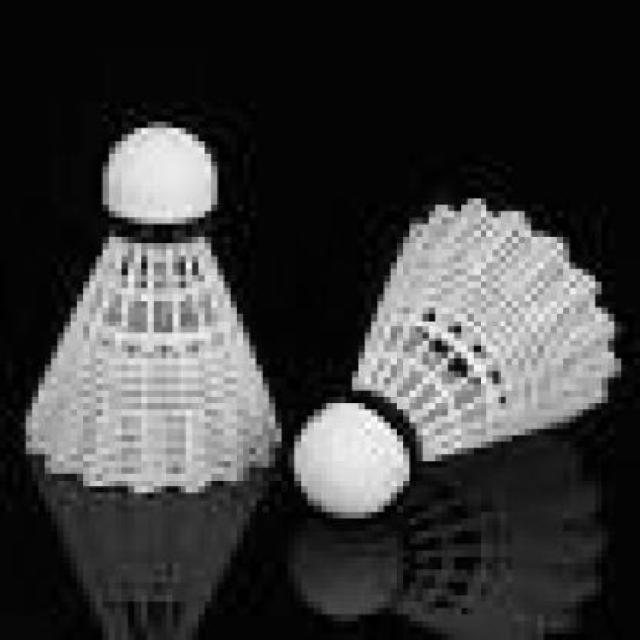Shuttlecock: (291, 194, 626, 523), (19, 119, 286, 498)
